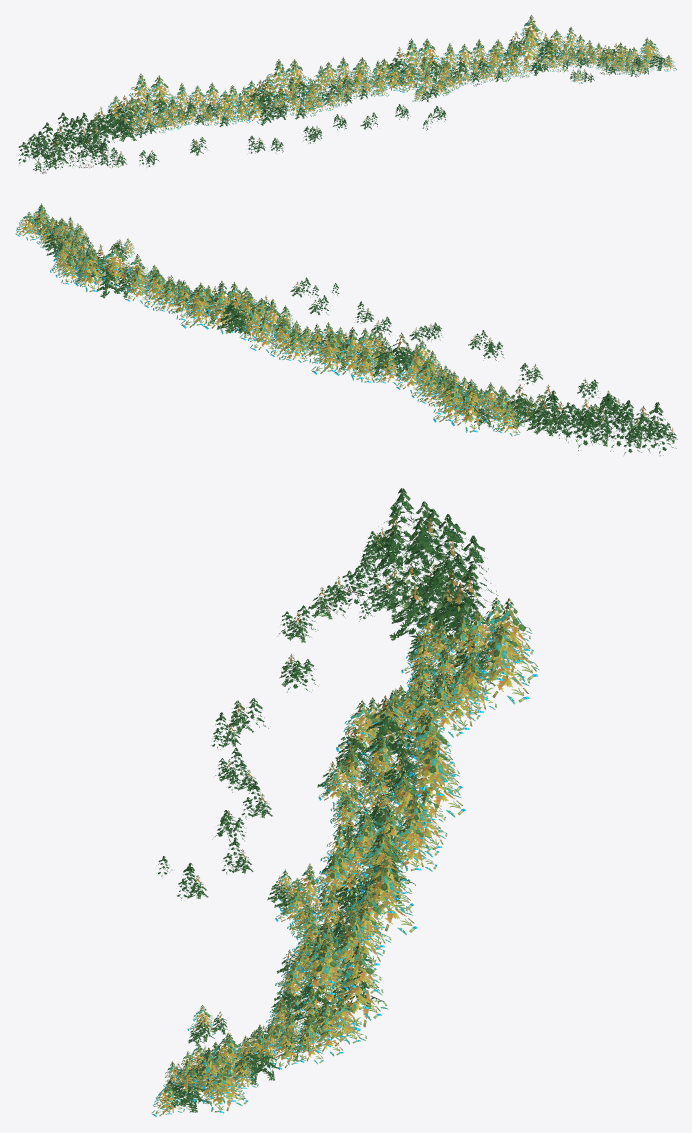
The model's file is area_11_9.fbx.
3 views of the same model, one above another, from view 1: azimuth 30°, elevation 25°; view 2: azimuth 150°, elevation 25°; view 3: azimuth 270°, elevation 25° (orthographic). The views are drawn at different scales.
Visible parts, largest first — view 1: area_11_9; view 2: area_11_9; view 3: area_11_9.
Boxes of the visible parts, left/top/right/bottom form: area_11_9: left=18, top=15, right=676, bottom=173; area_11_9: left=15, top=203, right=677, bottom=455; area_11_9: left=151, top=488, right=539, bottom=1116.
Size of the model in its own units: 259 by 17.64 by 73.77.
